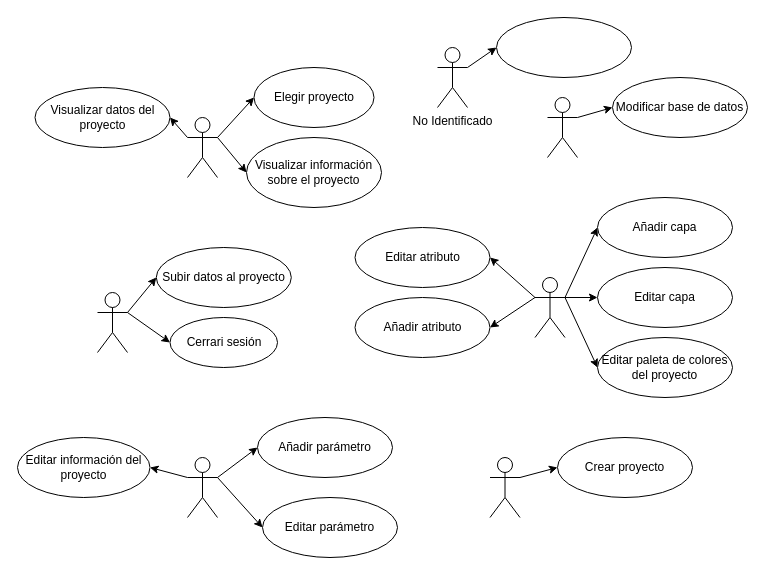
This 765x575 diagram has some shape labels left out. The box of each missing label's shape, as (x1, y1, x2, y2) in pixels:
Data Contributor: (96, 292, 128, 352)
Data Editor: (534, 276, 565, 338)
Iniciar sesión: (496, 16, 632, 78)
Page Admin: (489, 456, 520, 518)
Project Admin: (186, 456, 218, 518)
Superuser: (546, 96, 578, 158)
User: (186, 116, 218, 178)
